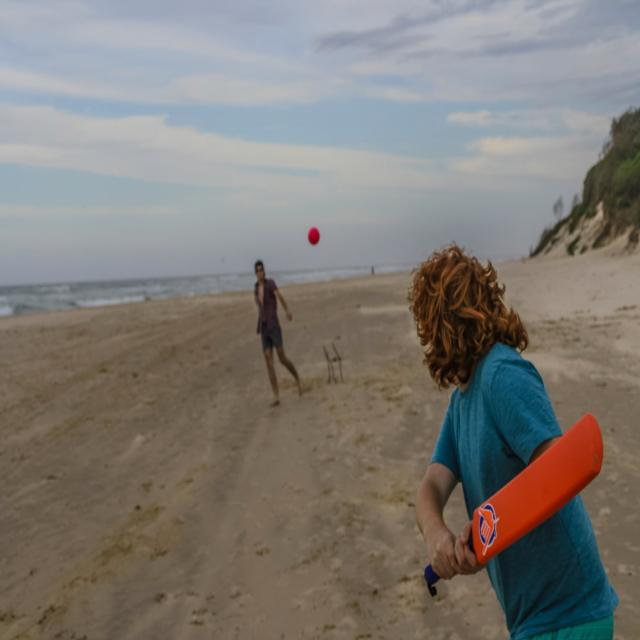adult: (413, 246, 610, 640), (253, 258, 303, 404)
